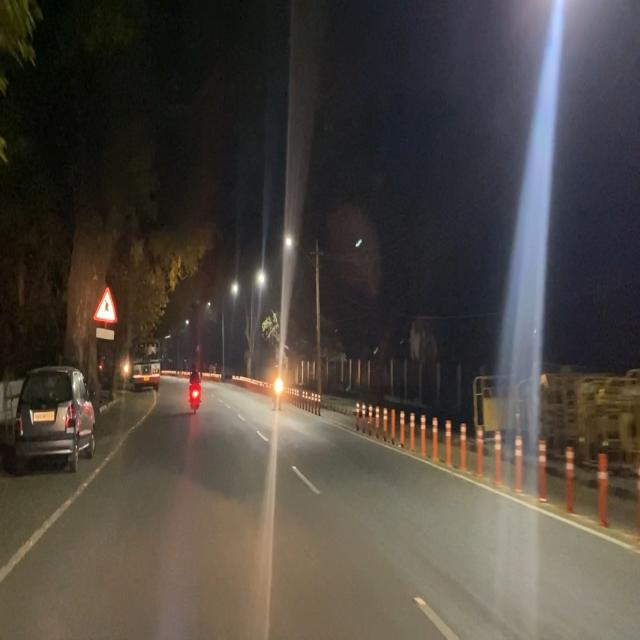bien_cam: (92, 283, 118, 331)
